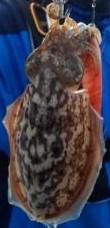Cephalopod: (3, 18, 104, 226)
